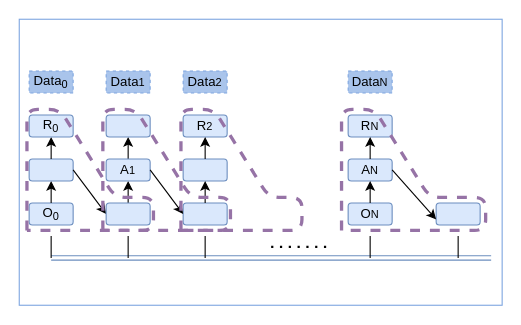
The diagram is 521 pixels wide and 325 high, and some of its shapes have lost their labels. The shapes that lost their labels are listed below. From the top down, each one's box as (x1, y1, x2, y2) in pixels, then its label:
(105, 114, 150, 137): R 1
(28, 158, 73, 181): A 0
(182, 158, 227, 181): A 2
(105, 202, 150, 225): O 1
(182, 202, 227, 225): O 2
(435, 202, 480, 225): O T
